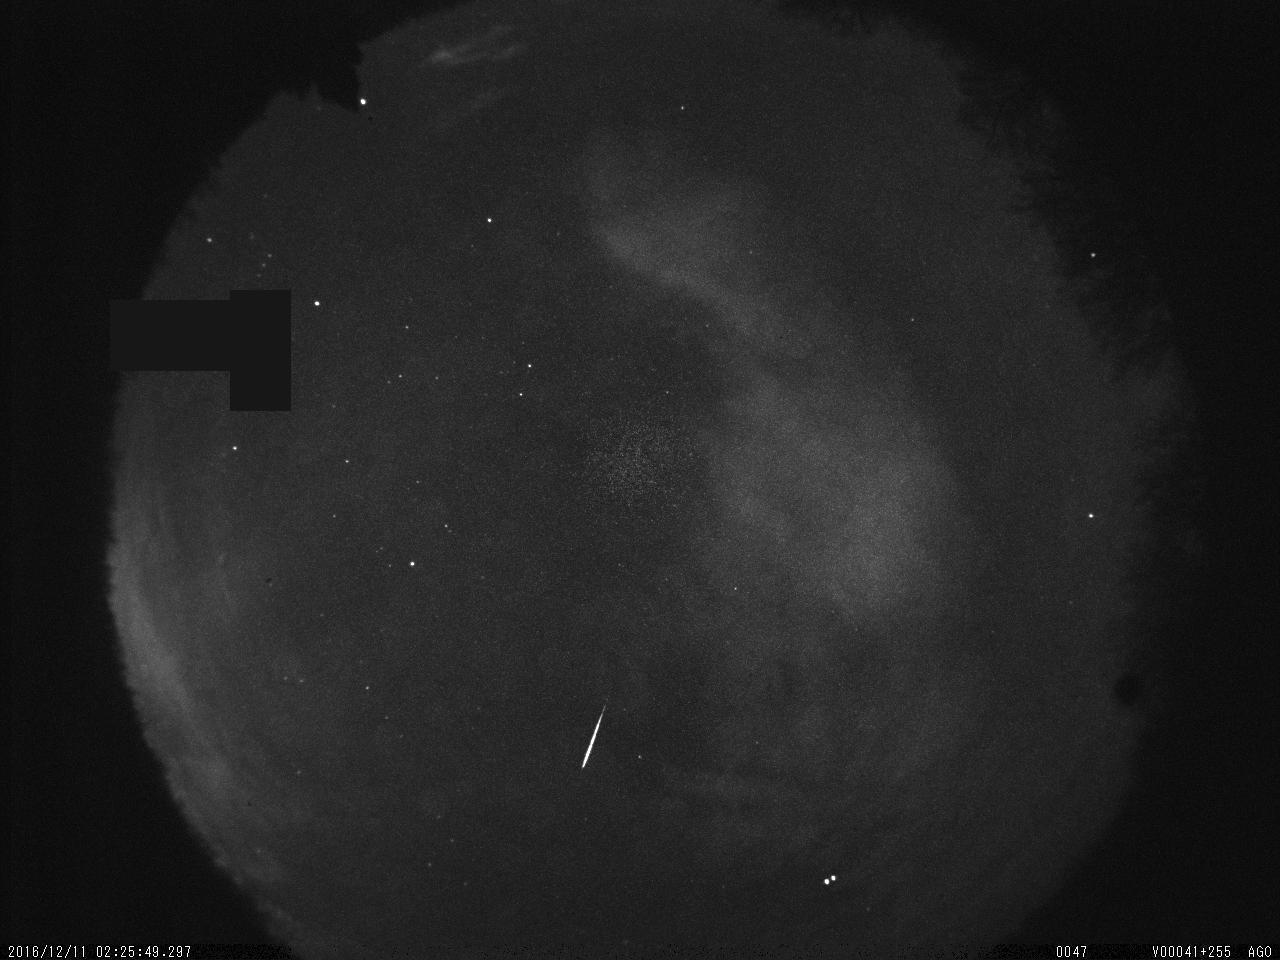meteor: (554, 676, 621, 794)
